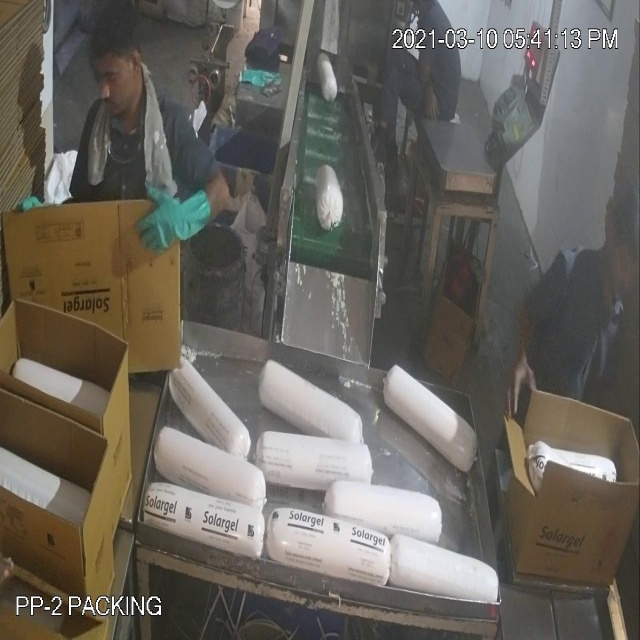Guantes: (135, 164, 220, 260)
Sin_guantes: (498, 273, 553, 426)
